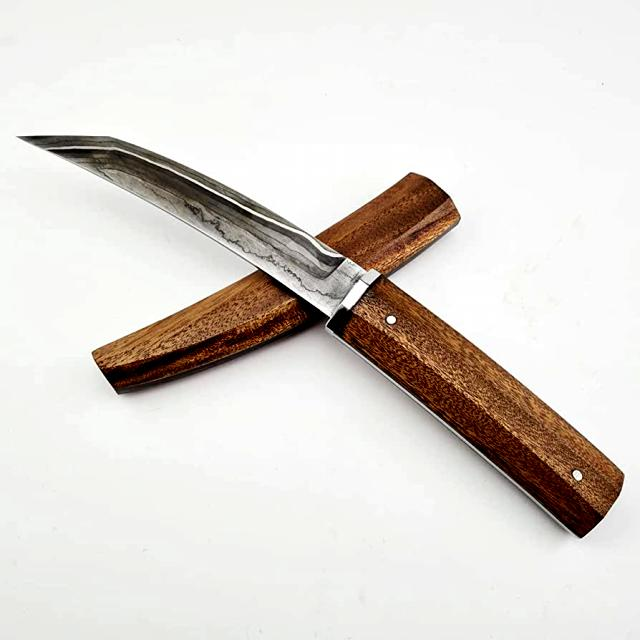short sword: (0, 111, 633, 546)
